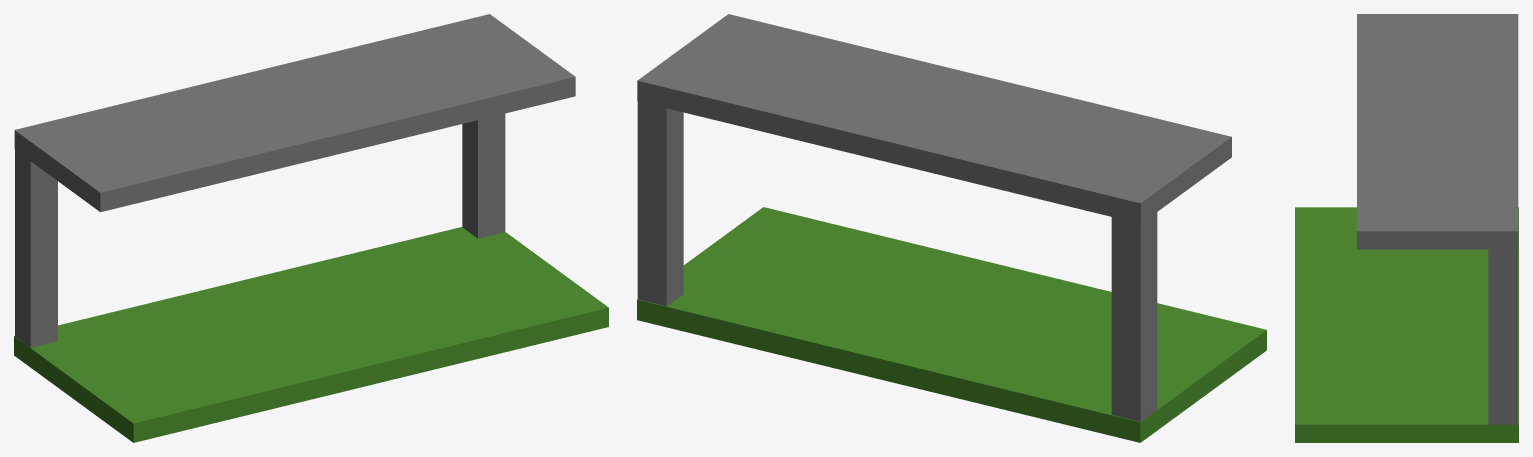
The model's file is Window.fbx.
3 views of the same model, side by side, from view 1: azimuth 30°, elevation 25°; view 2: azimuth 150°, elevation 25°; view 3: azimuth 270°, elevation 25° (orthographic). The views are drawn at different scales.
Visible parts, largest first — view 1: Cube.150, Cube.091, Cube.147, Cube.146; view 2: Cube.150, Cube.091, Cube.147, Cube.146; view 3: Cube.150, Cube.091, Cube.146.
Part boxes in pixels (x1=…): Cube.150: x1=14, y1=227, x2=608, y2=442; Cube.091: x1=14, y1=14, x2=575, y2=212; Cube.147: x1=15, y1=150, x2=57, y2=347; Cube.146: x1=462, y1=113, x2=505, y2=238; Cube.150: x1=637, y1=207, x2=1266, y2=442; Cube.091: x1=637, y1=14, x2=1231, y2=223; Cube.147: x1=1111, y1=212, x2=1157, y2=421; Cube.146: x1=637, y1=101, x2=683, y2=306; Cube.150: x1=1295, y1=207, x2=1518, y2=442; Cube.091: x1=1357, y1=14, x2=1518, y2=249; Cube.146: x1=1488, y1=249, x2=1517, y2=424.
Bounding box in the file's own units: 861 × 391 × 374.
